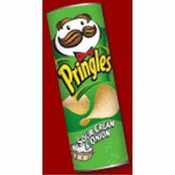grozi_35: (46, 2, 129, 173)
